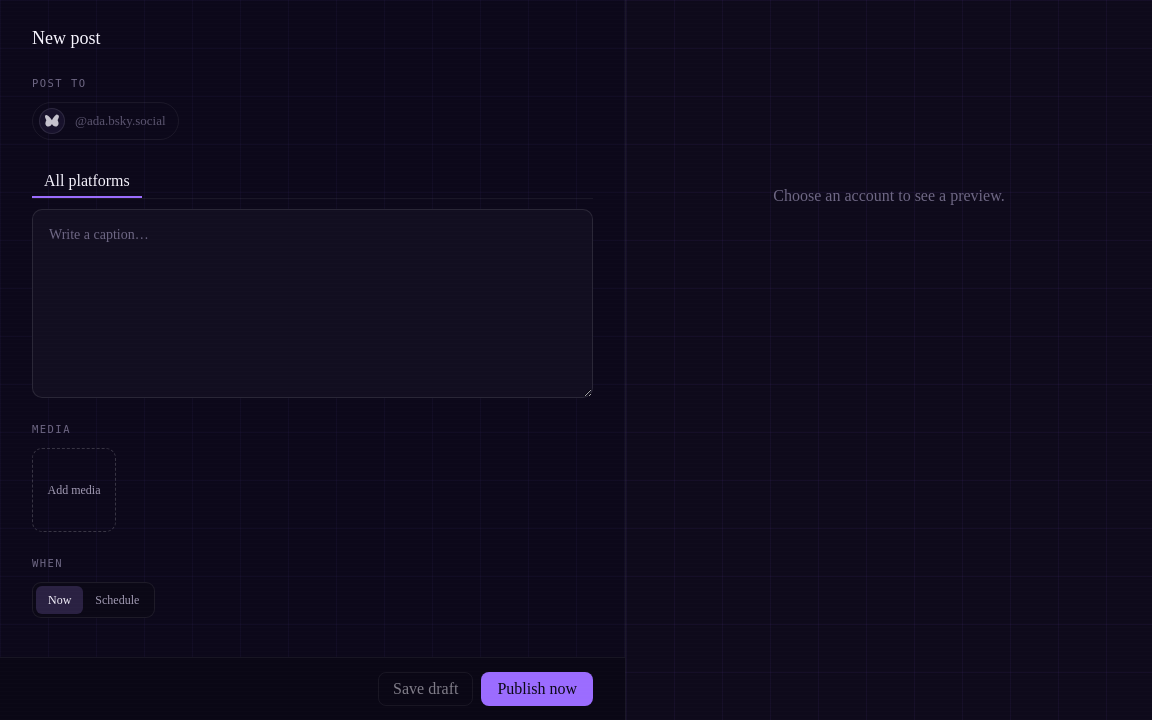
Composer › opens without errors and keeps the real button name, showing problems only after a try
The width and height of the screenshot is (1152, 720).
Expected: the text "Choose at least one account." is not shown
Click the button "Publish now" at (537, 689), box [481,672,593,706]
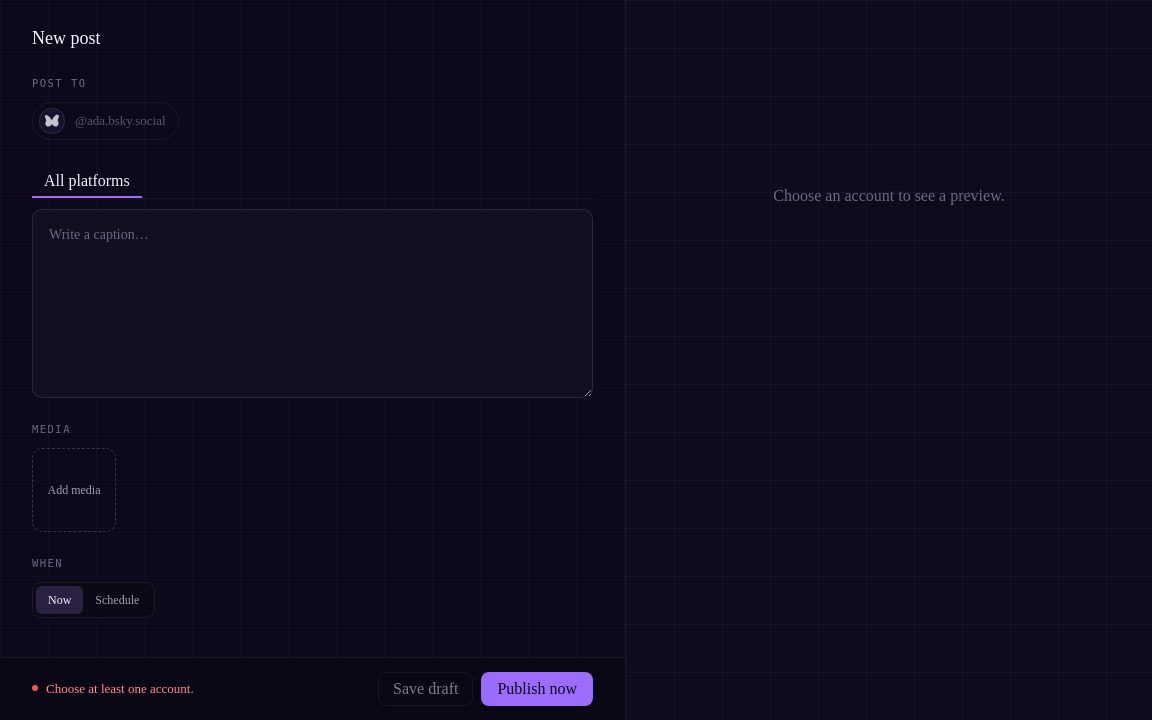
Now the message reads "Choose at least one account.", box [46,681,194,696]
